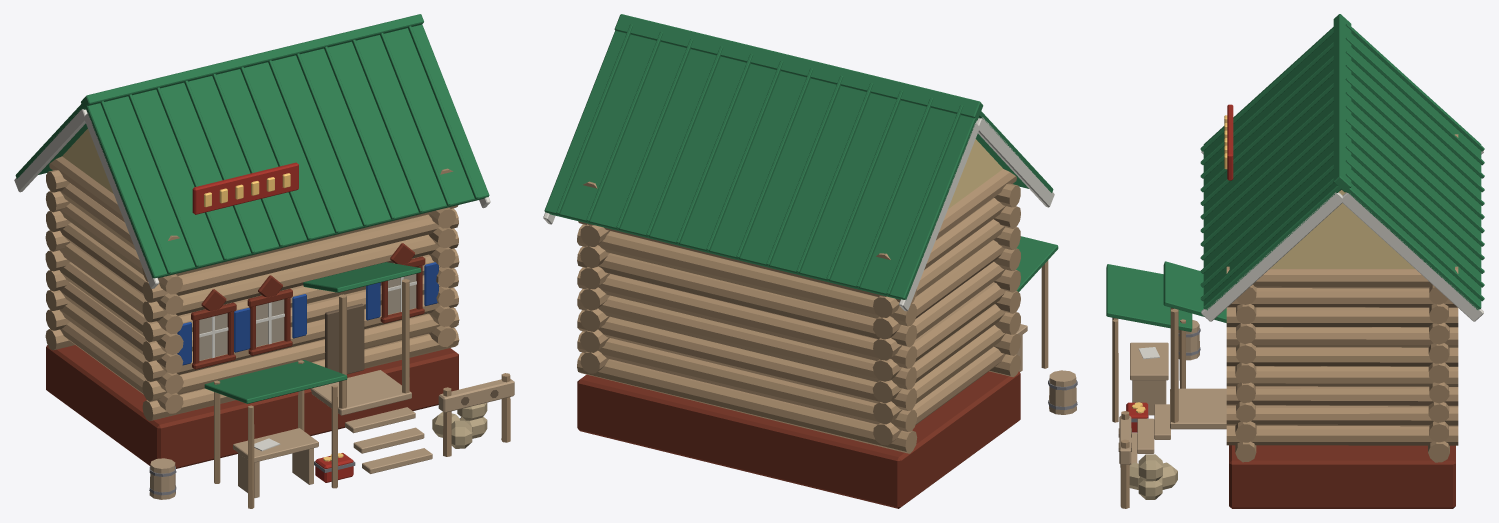
Rendered from bld_prikaz_e2.glb.
3 renders of one model, left to right at view 1: azimuth 30°, elevation 25°; view 2: azimuth 150°, elevation 25°; view 3: azimuth 270°, elevation 25°, orthographic. The views are drawn at different scales.
Parts seen in each view (by area): view 1: prikaz; view 2: prikaz; view 3: prikaz.
Part boxes in pixels (x1,y1,x2,y2): prikaz: (14, 14, 514, 508); prikaz: (543, 14, 1077, 508); prikaz: (1106, 14, 1484, 508).
Size of the model in its own units: 1.66 by 1.56 by 1.57.
